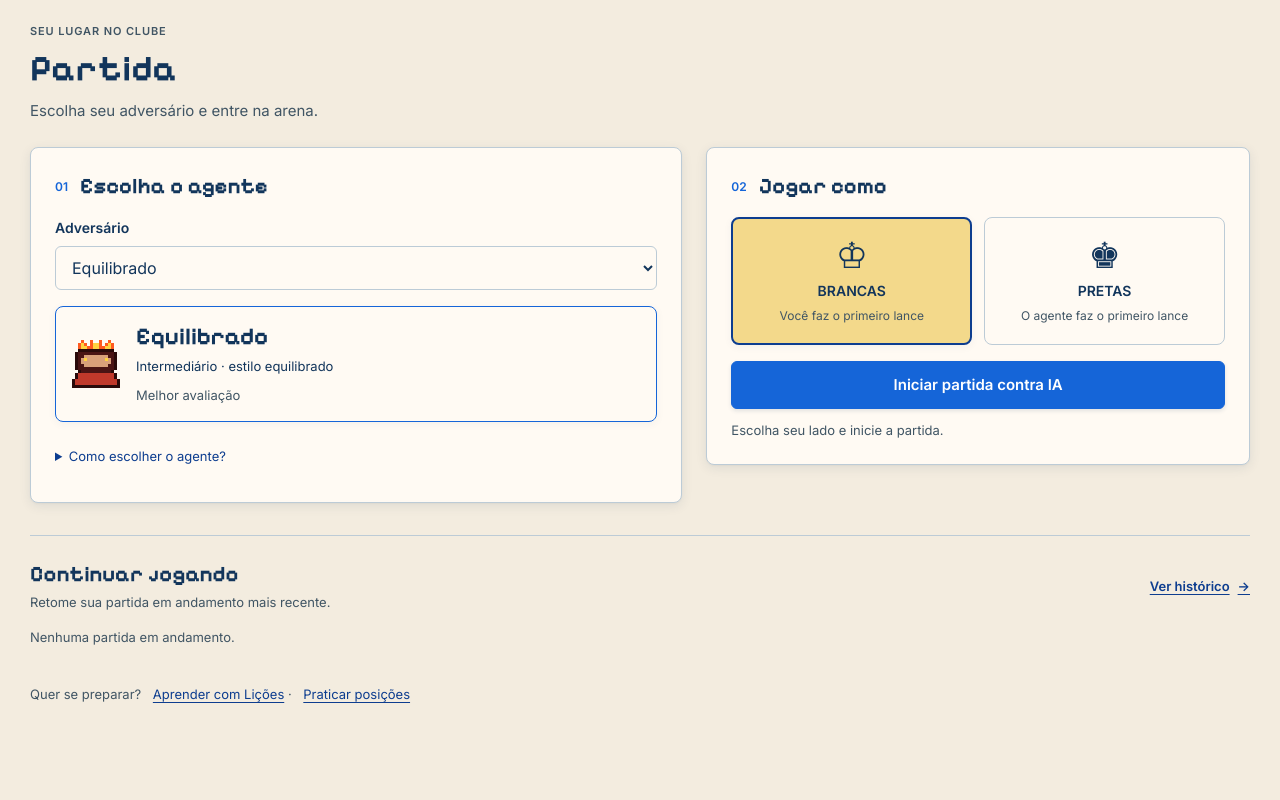
permite trocar o perfil antes de iniciar e usar a seleção atual ao criar a partida
Select "Agressivo" in the dropdown labelled "Adversário": (356, 268) [55,246,657,290]
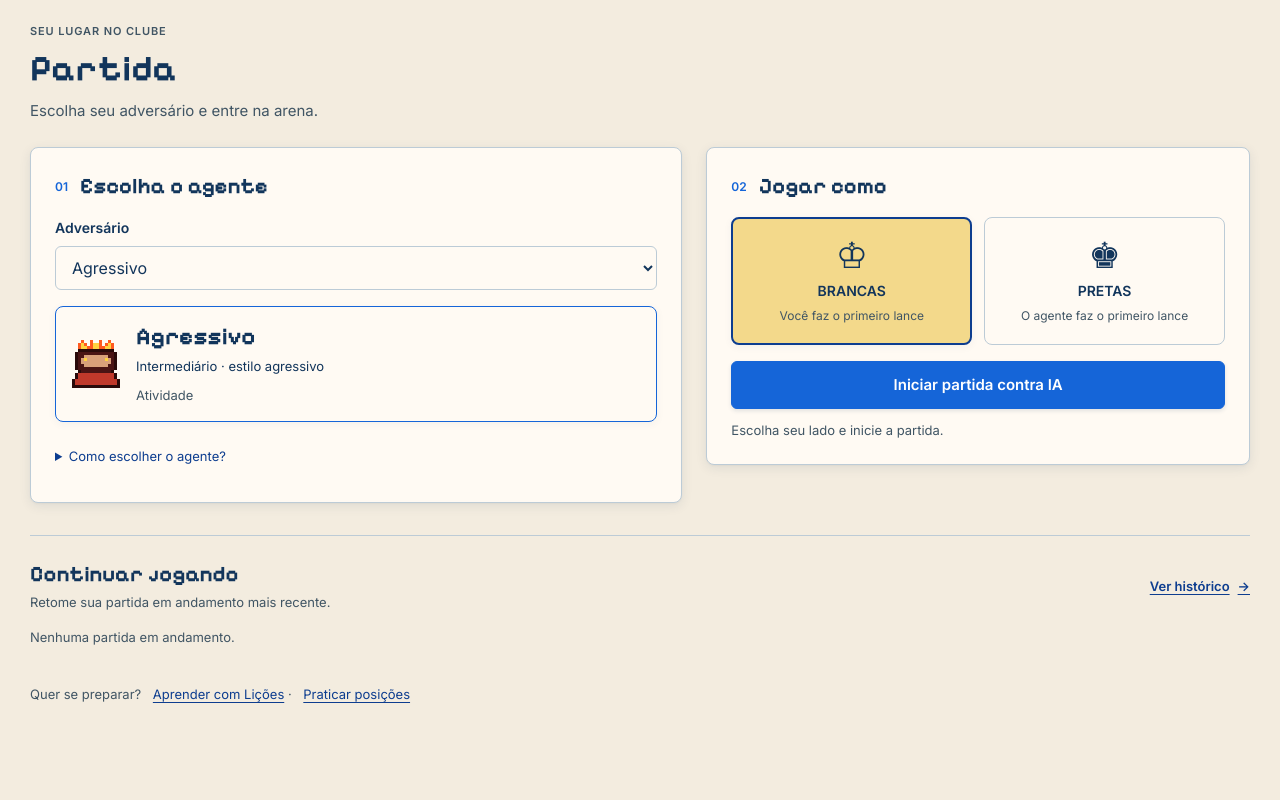
Click the button "Iniciar partida contra IA": (978, 385) [731,361,1225,409]
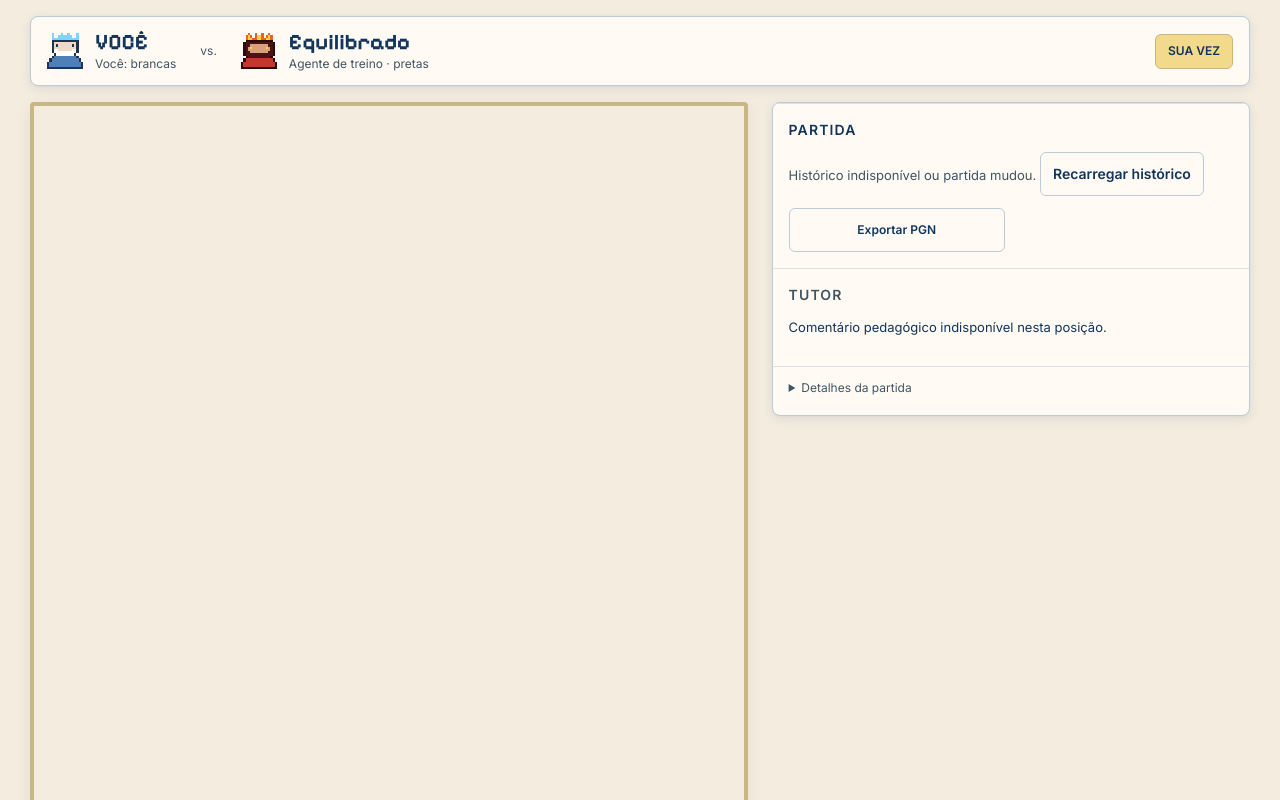
Check: the text labelled "seu lado" is gone
